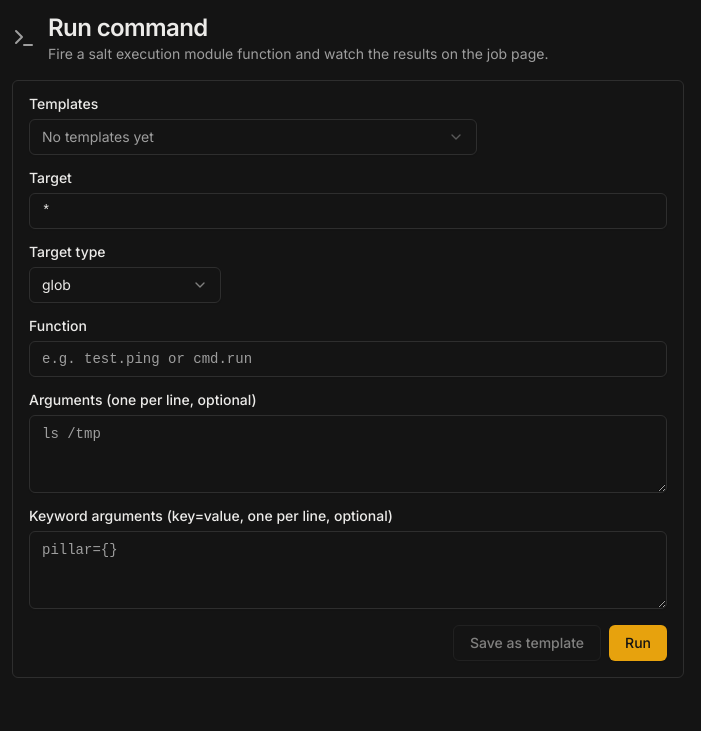
it: RunCommandPage › shows a 422 detail on bad fun
The image size is (701, 731).
In the dropdown labelled "Function": (348, 359) top-left (29, 341), bottom-right (667, 377), type "nodot"
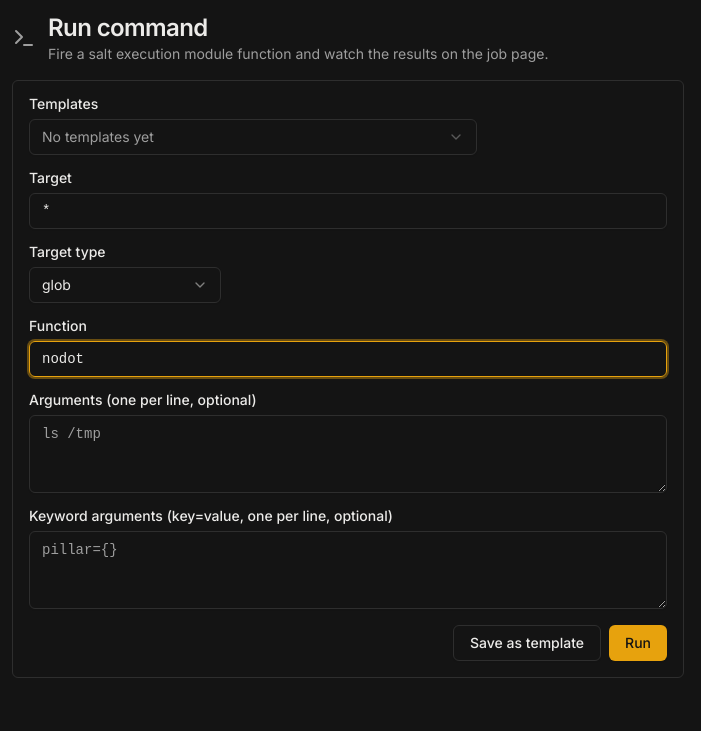
Click the button "Run": (638, 643) top-left (609, 625), bottom-right (667, 661)
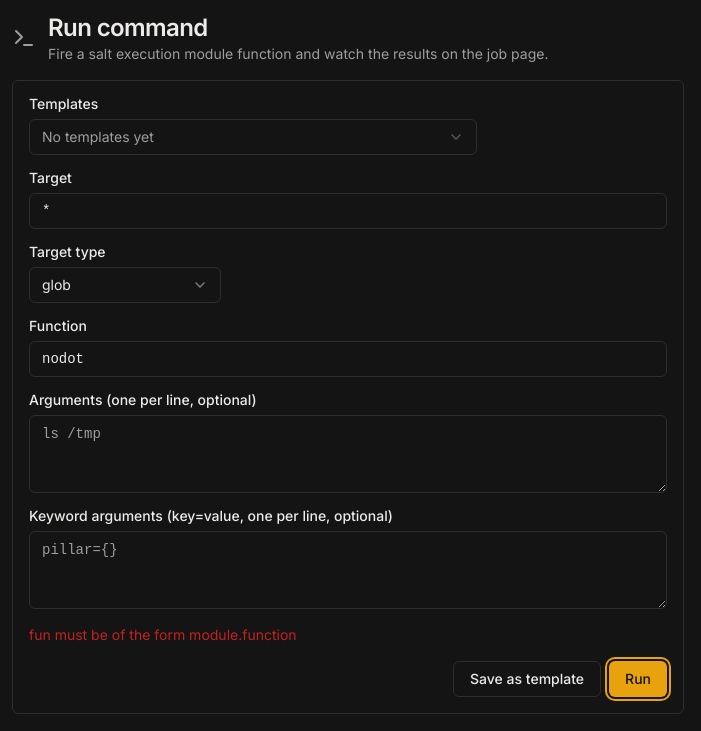
Result: the text "fun must be of the form module.function" is shown at top-left (29, 626), bottom-right (297, 643)
